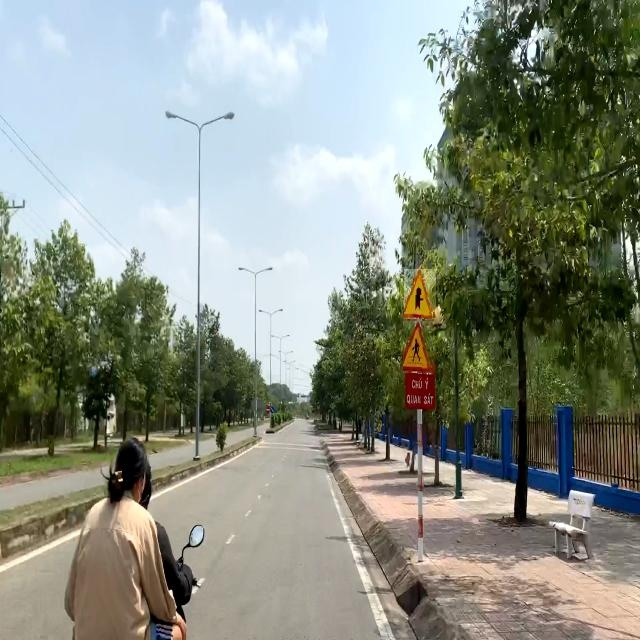bien_nguy_hiem: (404, 321, 436, 373), (404, 269, 436, 319)
